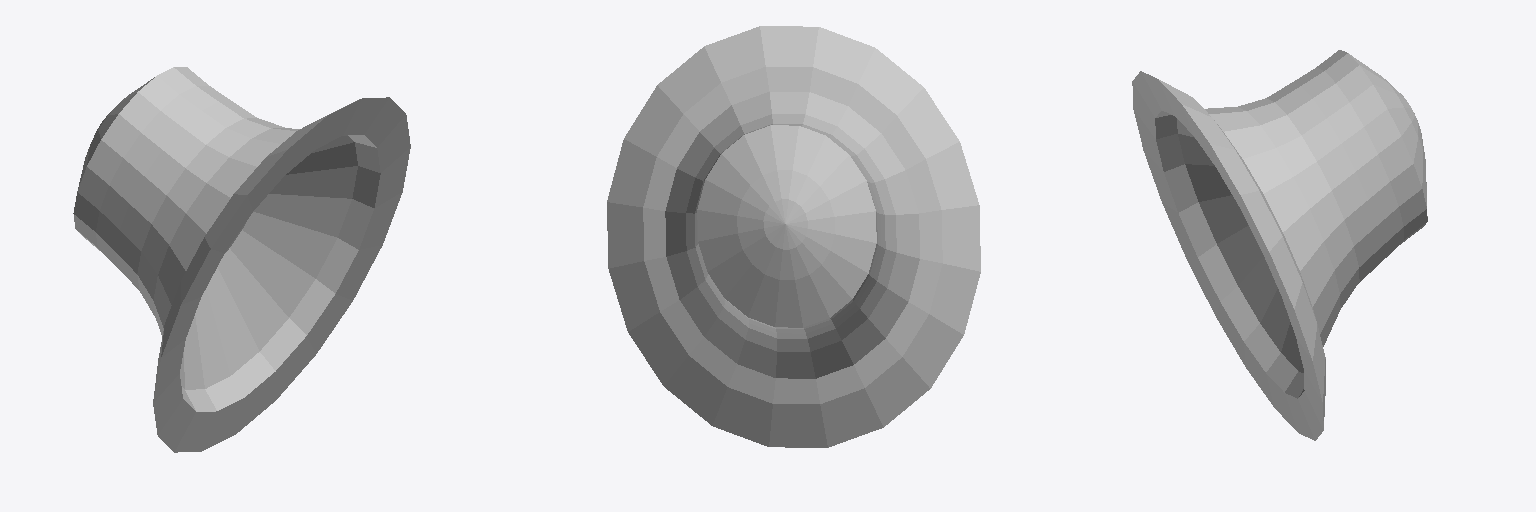
The model's file is Bell.obj.
The picture shows the model from 3 angles: view 1: azimuth 30°, elevation 25°; view 2: azimuth 150°, elevation 25°; view 3: azimuth 270°, elevation 25°; orthographic projection.
Visible parts, largest first — view 1: polySurface925 polySurface877 broken_wall; view 2: polySurface925 polySurface877 broken_wall; view 3: polySurface925 polySurface877 broken_wall.
Boxes of the visible parts, <box> form: polySurface925 polySurface877 broken_wall: <box>73,67,410,452</box>; polySurface925 polySurface877 broken_wall: <box>607,26,980,447</box>; polySurface925 polySurface877 broken_wall: <box>1132,50,1427,440</box>.
Bounding box in the file's own units: 6.13 × 6.93 × 5.09.